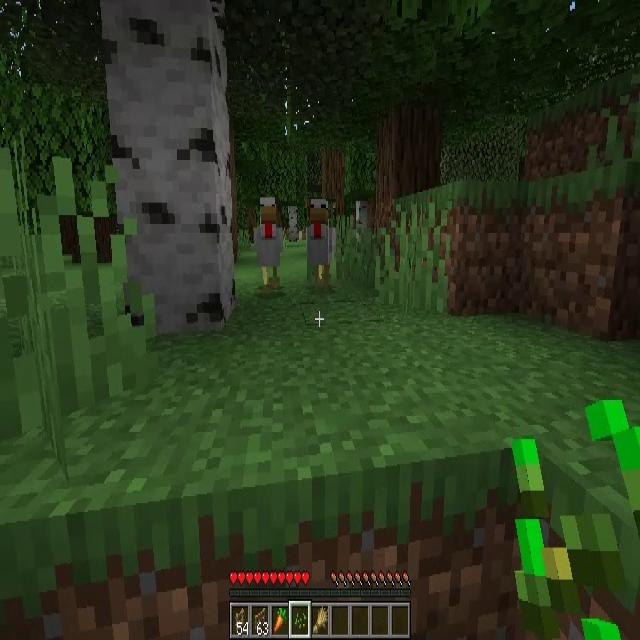duck: (307, 199, 336, 286), (255, 197, 282, 289)
